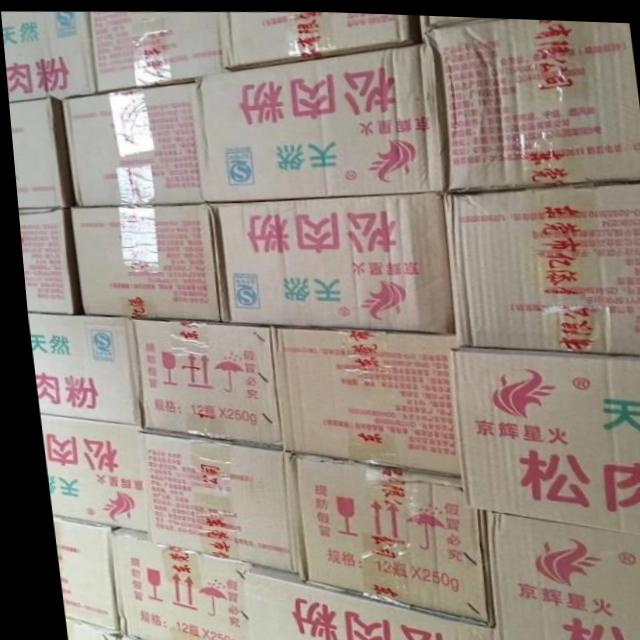box: (196, 38, 442, 201), (430, 15, 640, 190), (448, 344, 640, 533), (438, 178, 640, 352), (286, 450, 483, 622), (214, 190, 447, 330), (264, 326, 453, 473), (133, 430, 294, 574), (471, 508, 640, 640), (124, 319, 276, 446), (233, 564, 485, 640), (67, 204, 220, 323), (58, 81, 202, 206), (101, 525, 246, 640), (22, 312, 136, 424), (222, 10, 419, 70), (32, 416, 136, 528), (89, 10, 229, 92), (1, 10, 95, 100), (43, 517, 108, 632), (7, 97, 70, 211), (15, 207, 76, 315), (416, 12, 516, 31), (53, 617, 109, 640), (108, 632, 136, 640)
